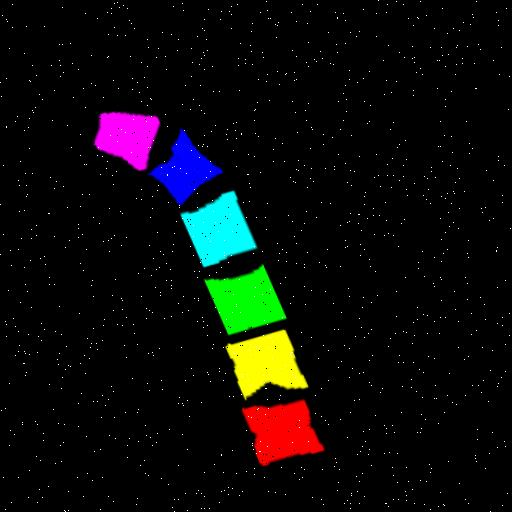L1: (230, 395, 311, 461)
L2: (216, 325, 296, 393)
L3: (198, 262, 279, 332)
L4: (175, 187, 252, 264)
L5: (144, 128, 216, 203)
S1: (90, 109, 155, 168)
